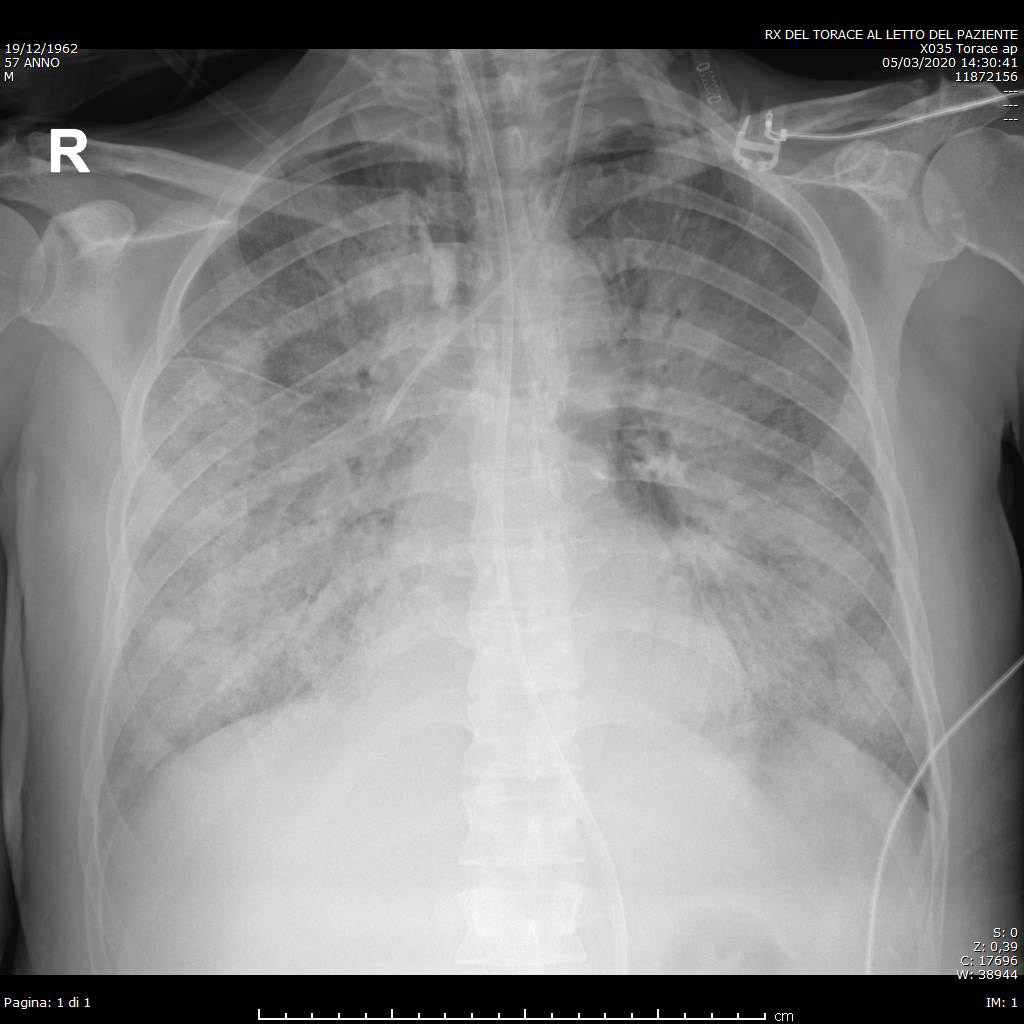Severe: (110, 108, 497, 786), (552, 111, 932, 794)
